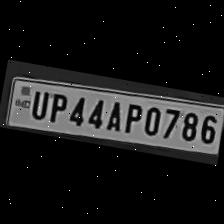0: (139, 101, 164, 137)
4: (82, 92, 108, 130), (64, 90, 89, 127)
6: (194, 110, 218, 146)
7: (158, 104, 180, 140)
8: (176, 107, 200, 144)
A: (102, 96, 126, 132)
P: (43, 88, 69, 124), (119, 98, 144, 134)
U: (26, 85, 50, 121)
